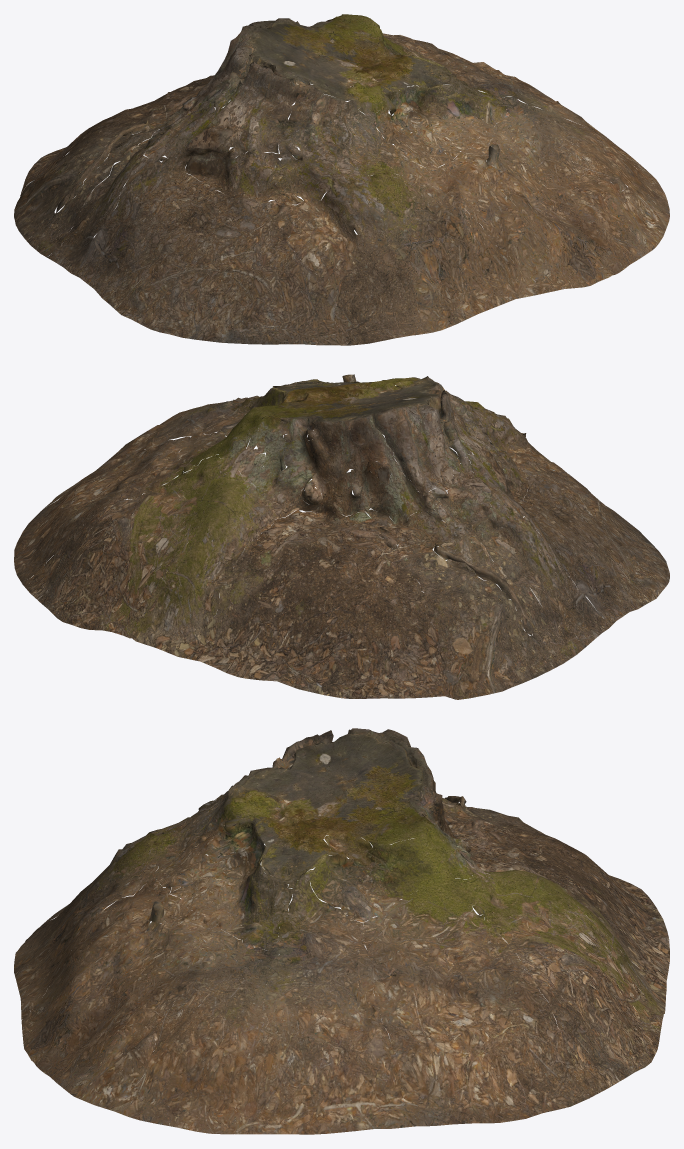
The model's file is tree_stump_02.glb.
The picture shows the model from 3 angles, top to bottom: view 1: azimuth 30°, elevation 25°; view 2: azimuth 150°, elevation 25°; view 3: azimuth 270°, elevation 25°; orthographic projection. The views are drawn at different scales.
Visible parts, largest first — view 1: tree_stump_02; view 2: tree_stump_02; view 3: tree_stump_02.
Boxes of the visible parts, x1,y1,x2,y2 form: tree_stump_02: (14, 14, 669, 345); tree_stump_02: (14, 374, 669, 699); tree_stump_02: (14, 728, 669, 1134).
Size of the model in its own units: 1.52 by 0.5216 by 1.39.
1 material, 1 textured.
